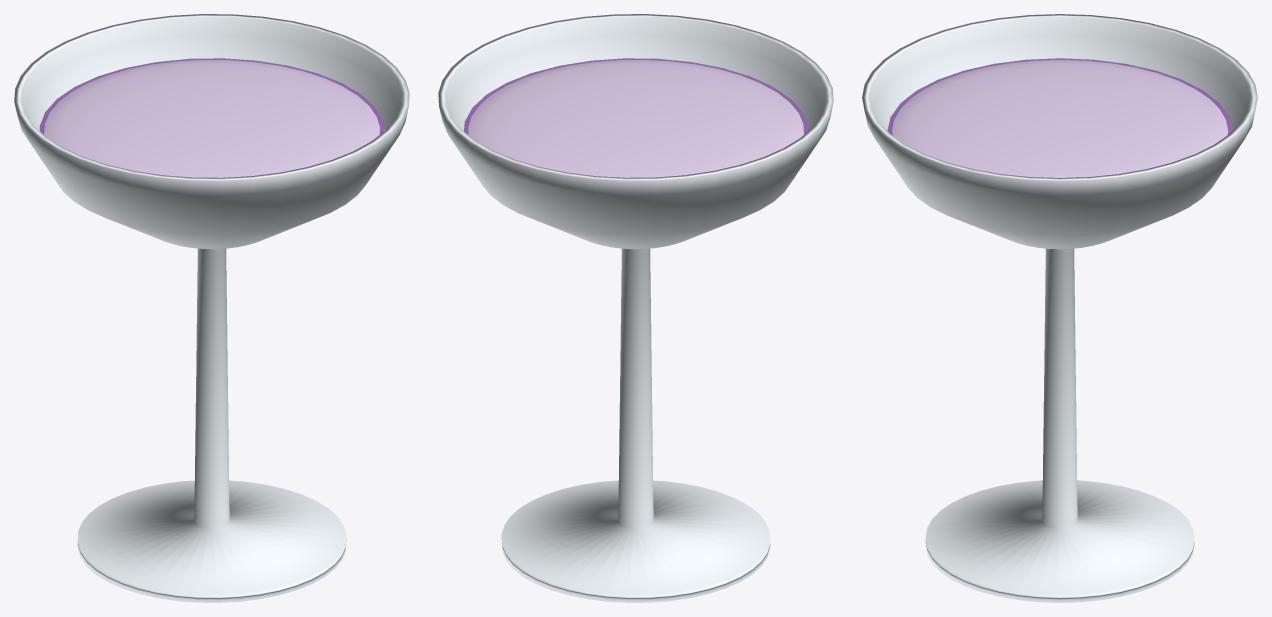
File: cocktail-purple-mirage.glb
3 views of the same model, side by side, from view 1: azimuth 30°, elevation 25°; view 2: azimuth 150°, elevation 25°; view 3: azimuth 270°, elevation 25° (orthographic).
Bounding box in the file's own units: 0.112 × 0.14 × 0.112.
